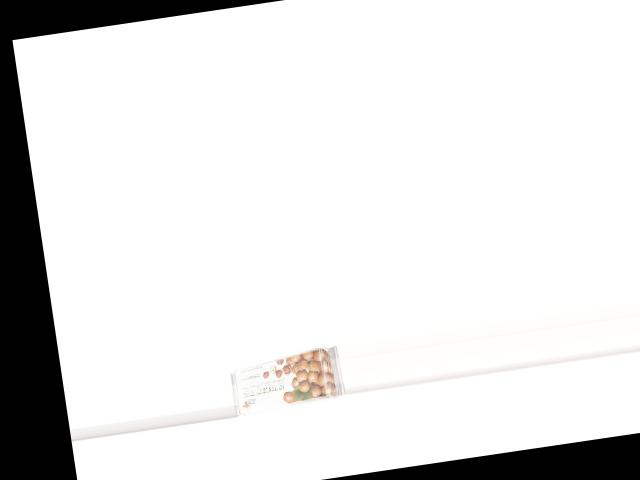chocolate: (227, 344, 344, 413)
